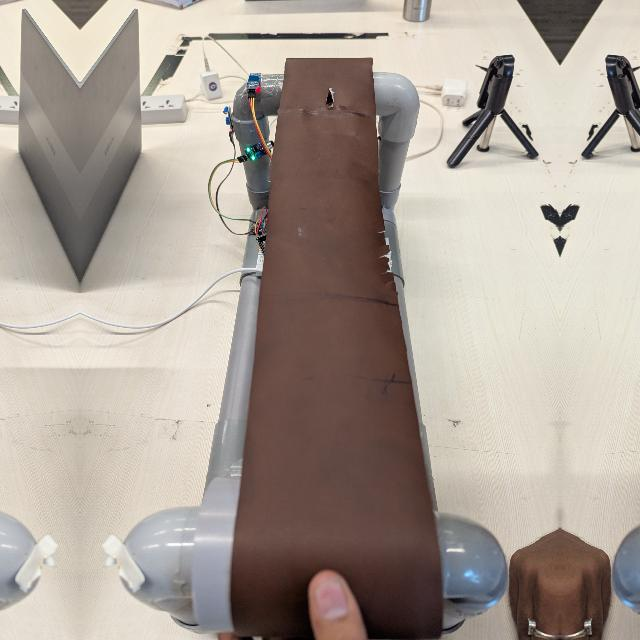joint_damage: (313, 76, 355, 124)
